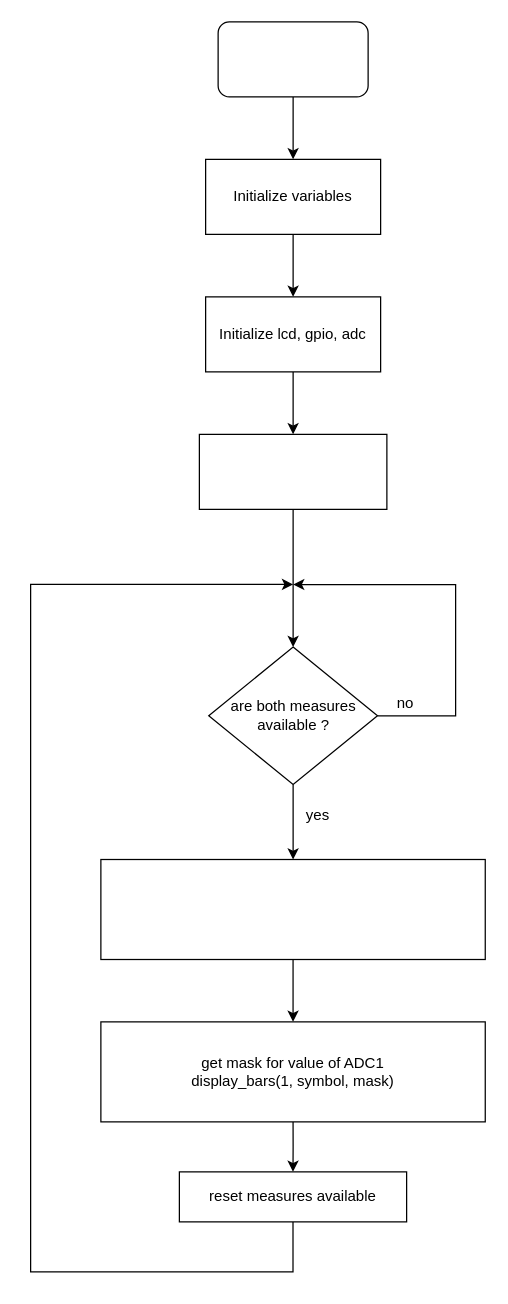
This 508x1304 diagram has some shape labels left out. Here are the shapes that lost their labels. From the top down, the centre of each, then its label:
point 292,59: main
point 292,471: select adc channel start adc measures
point 292,909: get mask for value of ADC0 display_bars(0, symbol, mask)
